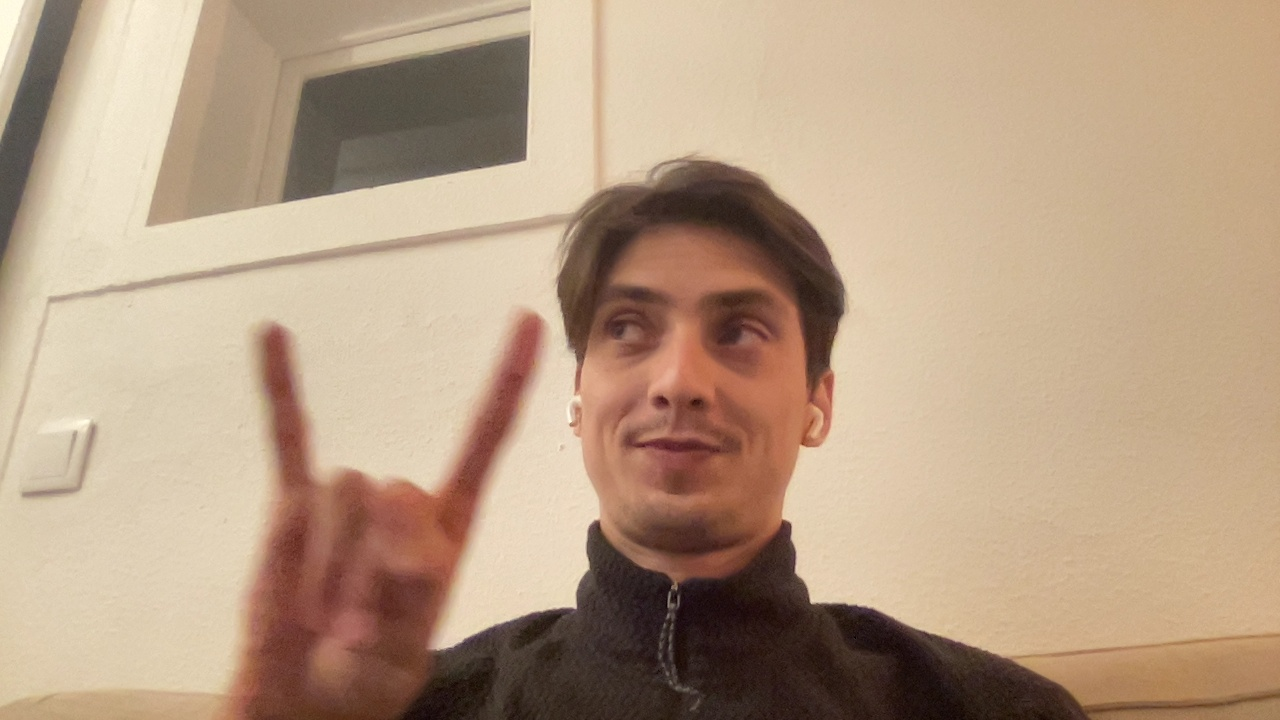I Love You: (182, 290, 579, 717)
